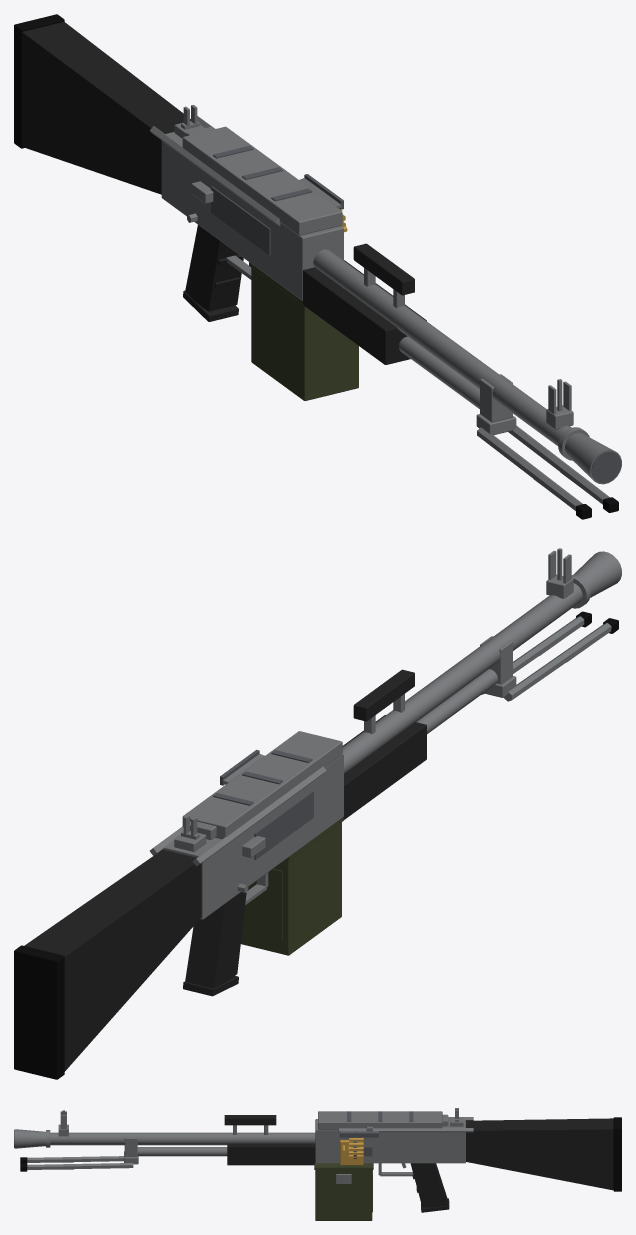
The model's file is Pmt76.obj.
3 views of the same model, one above another, from view 1: azimuth 30°, elevation 25°; view 2: azimuth 150°, elevation 25°; view 3: azimuth 270°, elevation 25° (orthographic). The views are drawn at different scales.
Visible parts, largest first — view 1: Body, Magazine, Cover; view 2: Body, Magazine, Cover; view 3: Body, Magazine, Cover.
Boxes of the visible parts, <box> form: Body: <box>14,14,621,519</box>; Magazine: <box>249,225,358,400</box>; Cover: <box>182,126,342,235</box>; Body: <box>14,548,621,1079</box>; Magazine: <box>241,817,343,955</box>; Cover: <box>182,731,342,839</box>; Body: <box>14,1108,621,1212</box>; Magazine: <box>314,1140,373,1220</box>; Cover: <box>318,1111,448,1129</box>.
Bounding box in the file's own units: 0.101 × 0.218 × 1.17.
